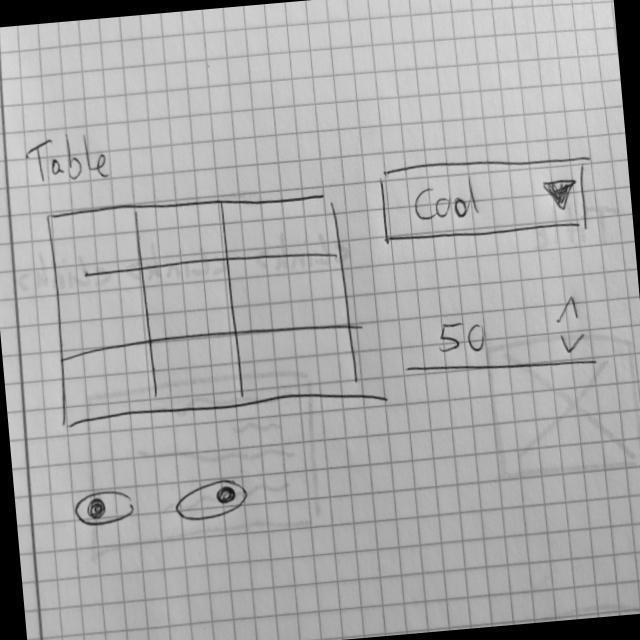label: (21, 127, 116, 193)
number-input: (401, 290, 600, 386)
select: (376, 148, 597, 251)
table: (45, 184, 368, 433)
toggle: (174, 476, 254, 527), (73, 486, 139, 528)
